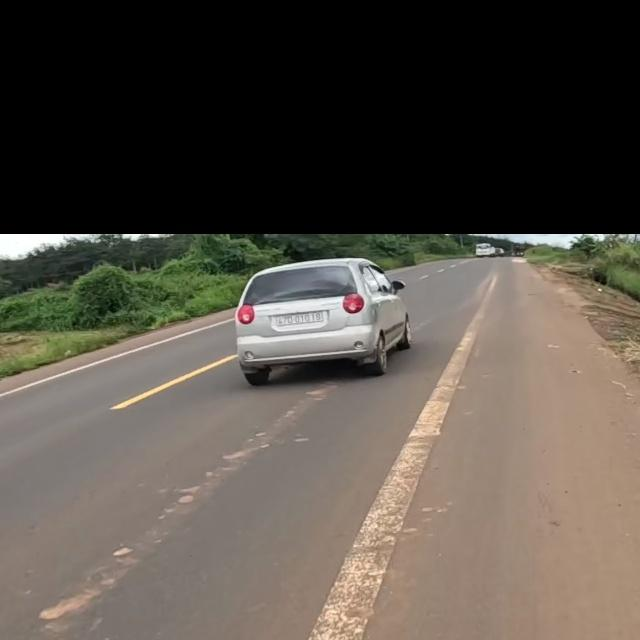license-plate: (271, 311, 327, 326)
